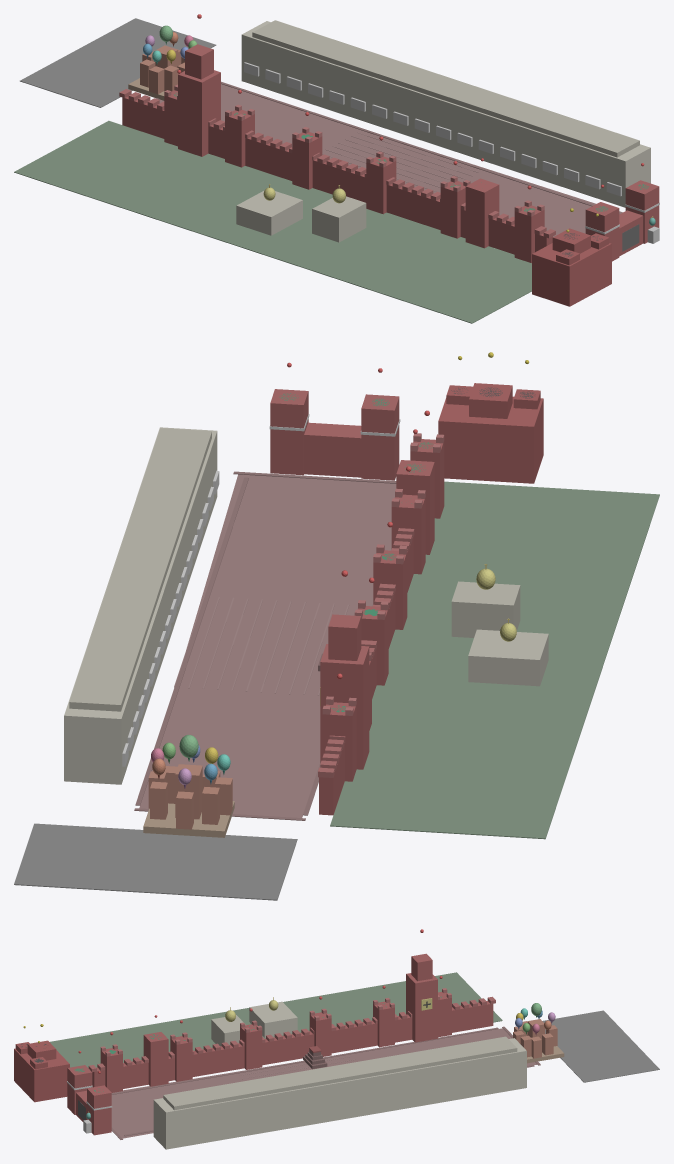
Rendered from red_square.glb.
3 views of the same model, one above another, from view 1: azimuth 30°, elevation 25°; view 2: azimuth 150°, elevation 25°; view 3: azimuth 270°, elevation 25° (orthographic). The views are drawn at different scales.
Visible parts, largest first — view 1: world; view 2: world; view 3: world.
Boxes of the visible parts, <box> form: world: <box>14,14,659,323</box>; world: <box>14,352,659,900</box>; world: <box>14,929,659,1149</box>.
Size of the model in its own units: 307 by 86.6 by 473.
